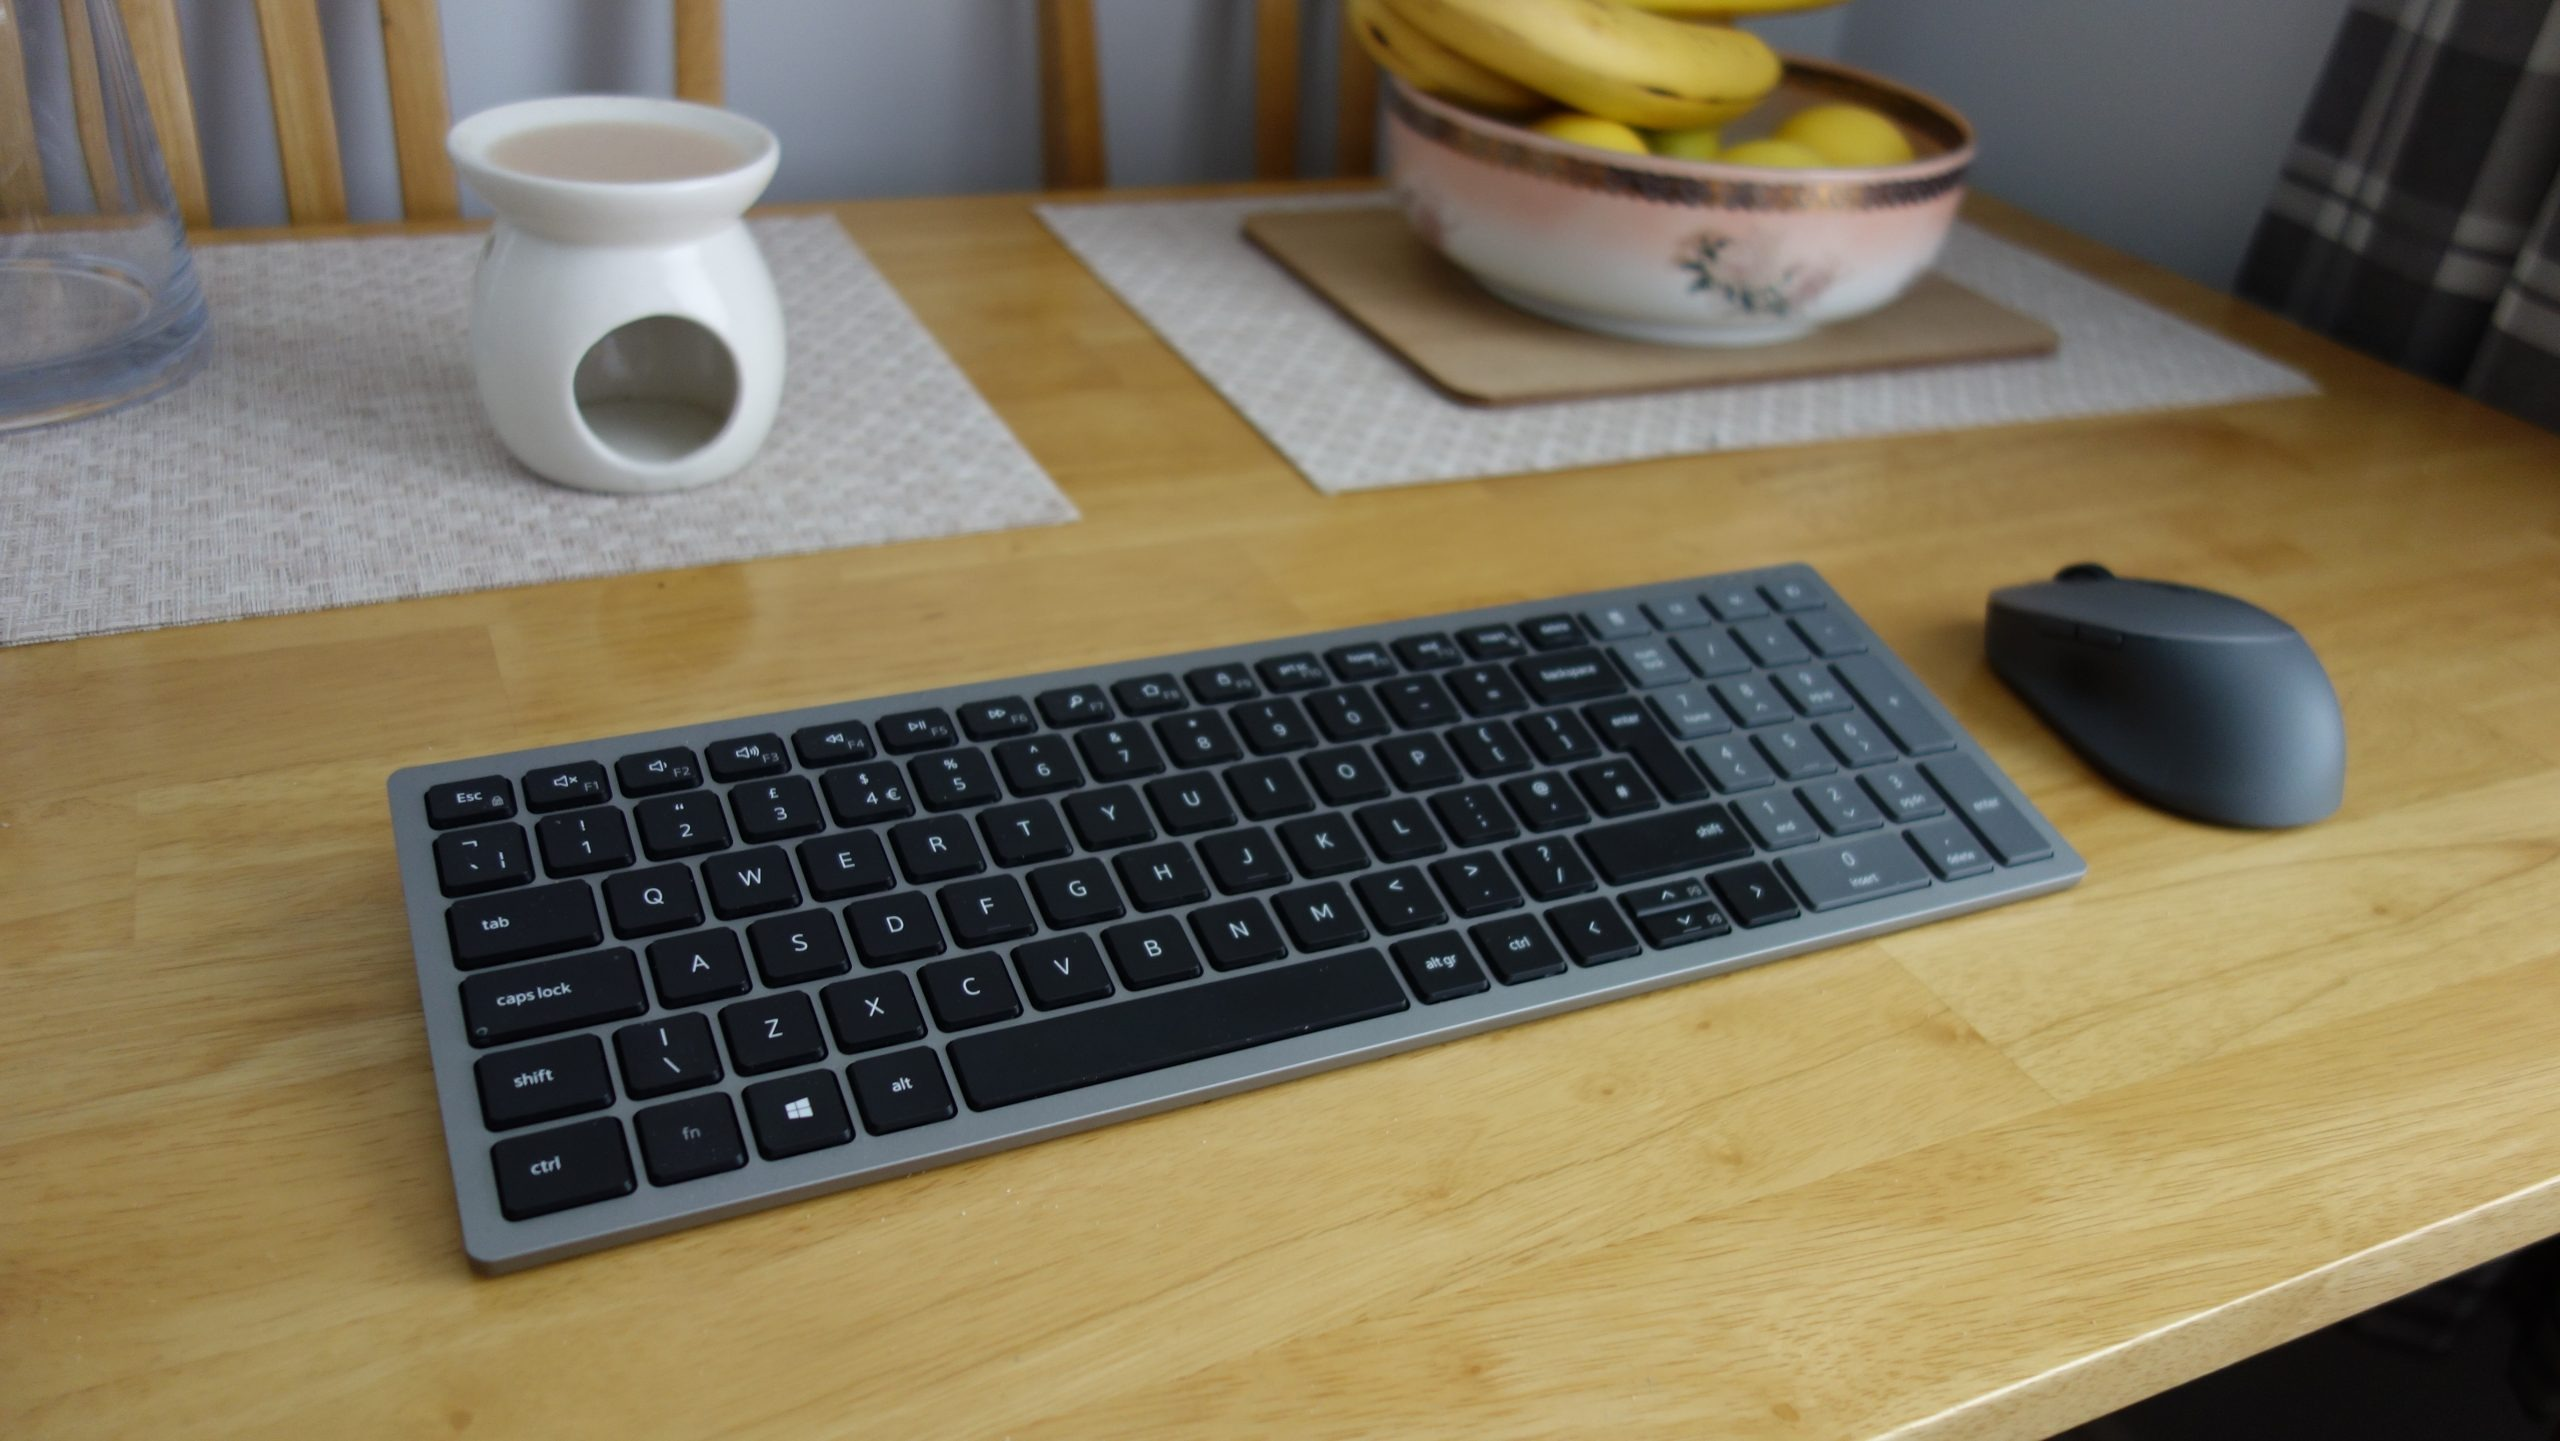mouse: (1955, 508, 2375, 875)
